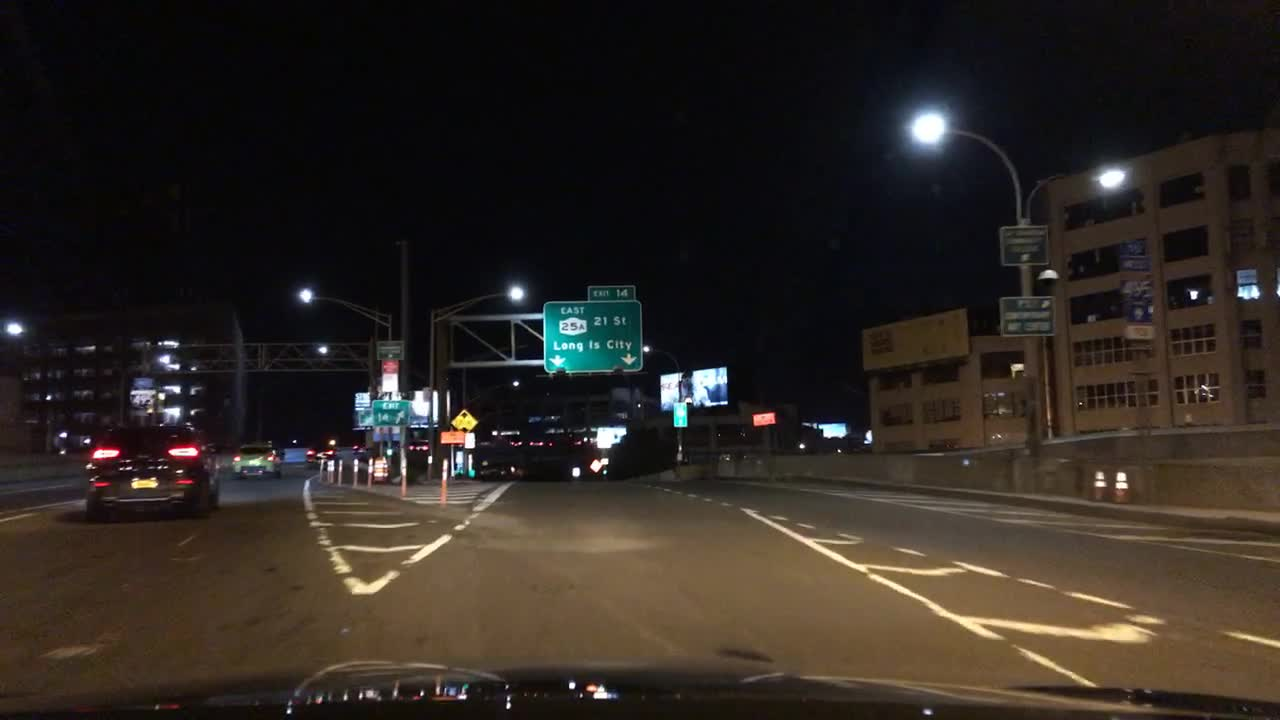car: (84, 420, 219, 518), (232, 441, 281, 478), (481, 453, 528, 480), (305, 440, 338, 466), (408, 439, 428, 453), (350, 441, 370, 454)
traffic sign: (542, 300, 642, 372), (997, 293, 1055, 337), (1000, 224, 1051, 265), (371, 398, 410, 427), (586, 284, 636, 301), (452, 411, 476, 432), (382, 359, 398, 390), (377, 341, 404, 357), (672, 402, 688, 427), (437, 431, 464, 443), (354, 392, 370, 407), (464, 433, 476, 449)
